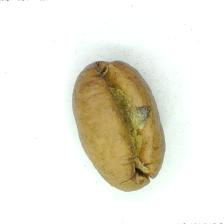NG: (104, 77, 157, 170)
